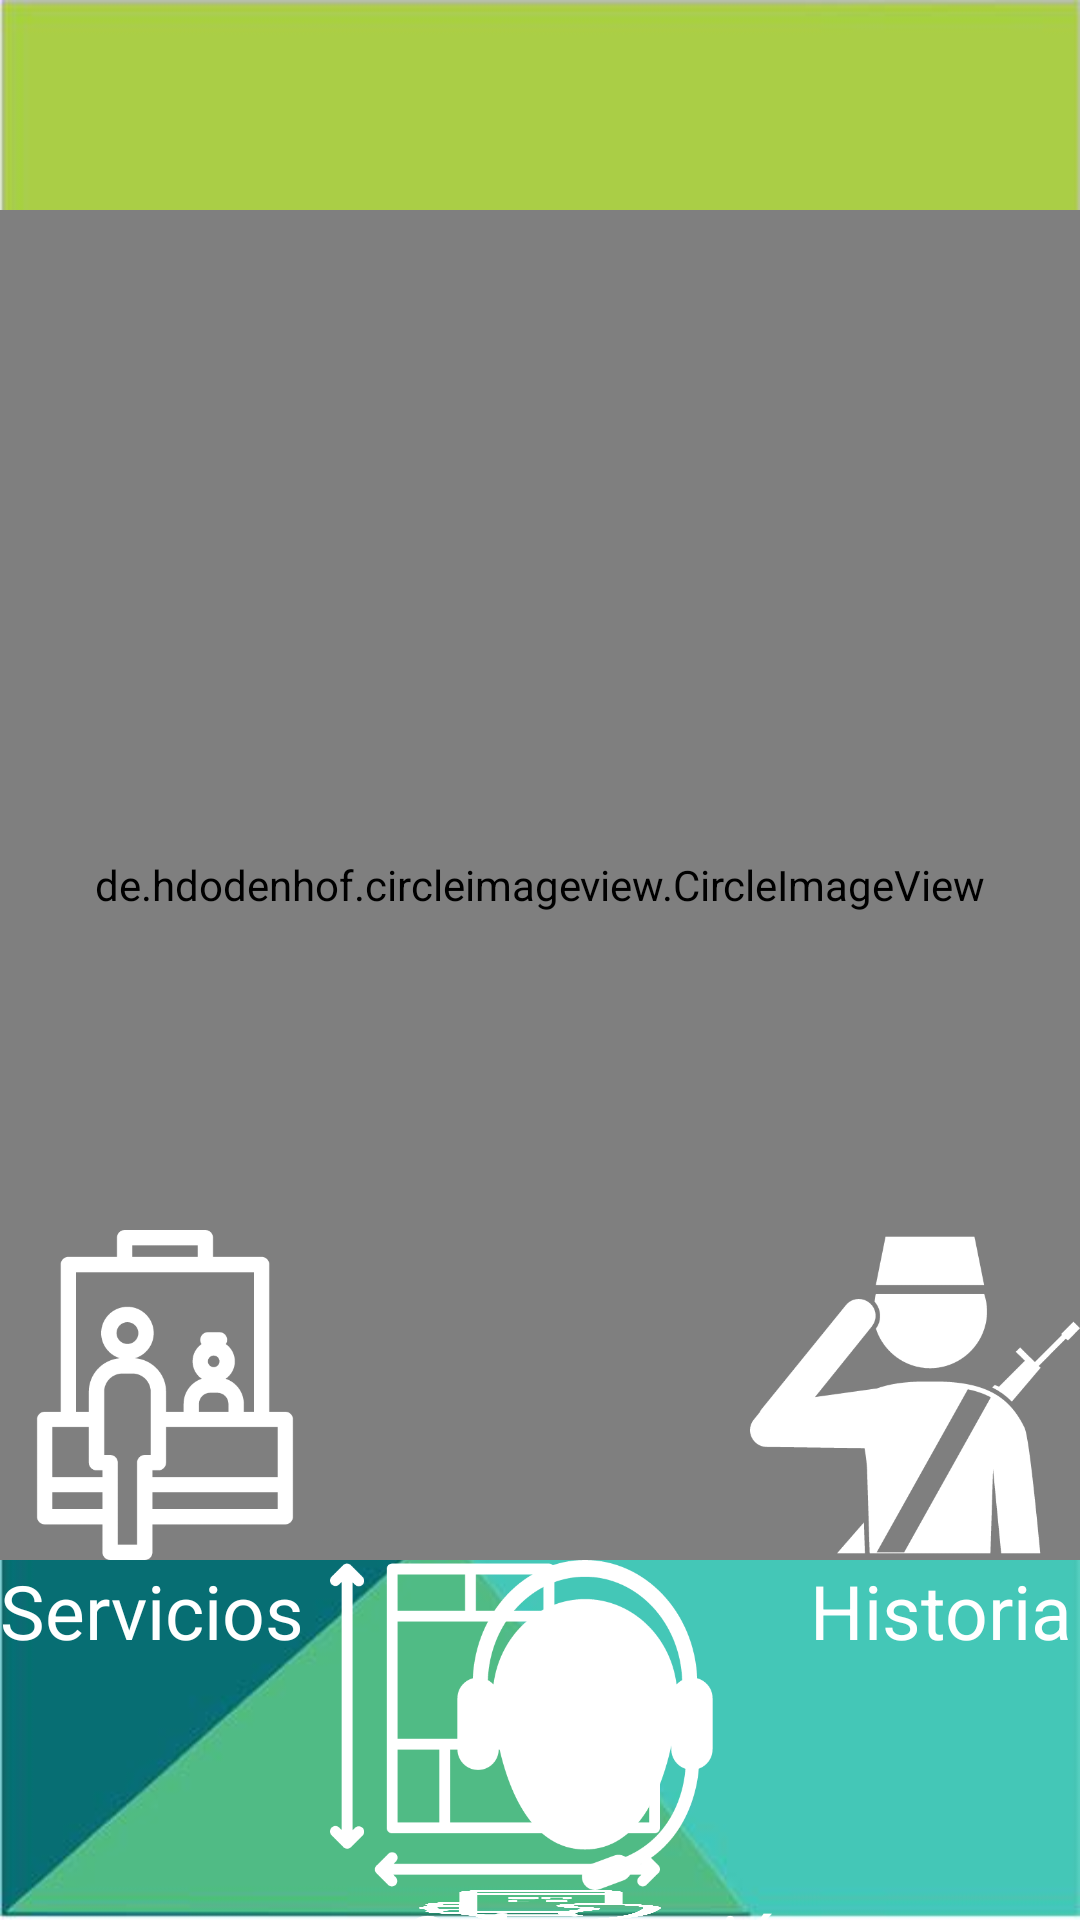

Screen size 1080 × 1920. Icon name, then its box in pixels as box(x1, y1, x2, y2):
soldier: box(750, 1236, 1080, 1554)
